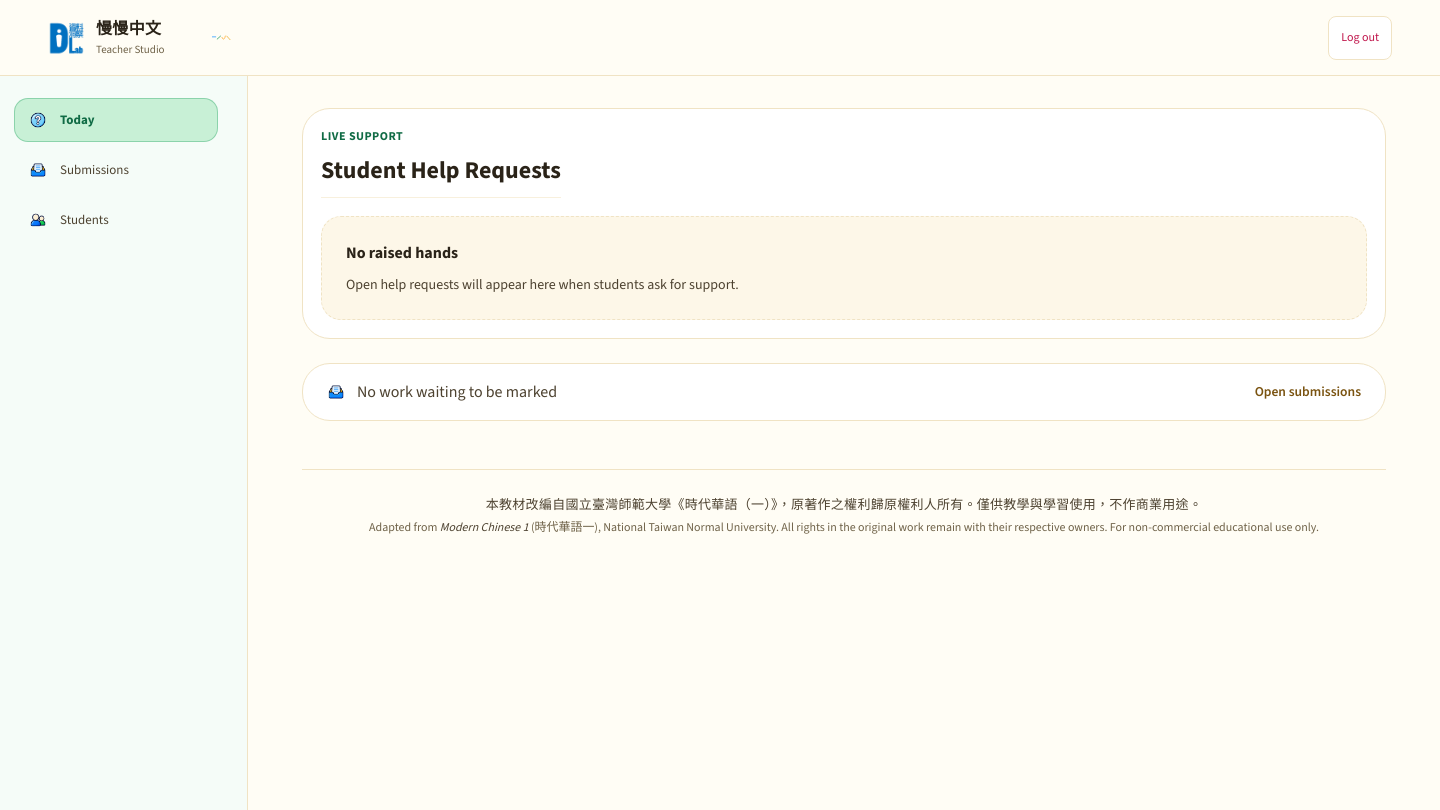
it: Recording trends on the Submissions view › shows an empty state when there are no recordings yet
Click the button "Submissions".
click(116, 170)  # box [14,148,218,192]
(page scrolled)
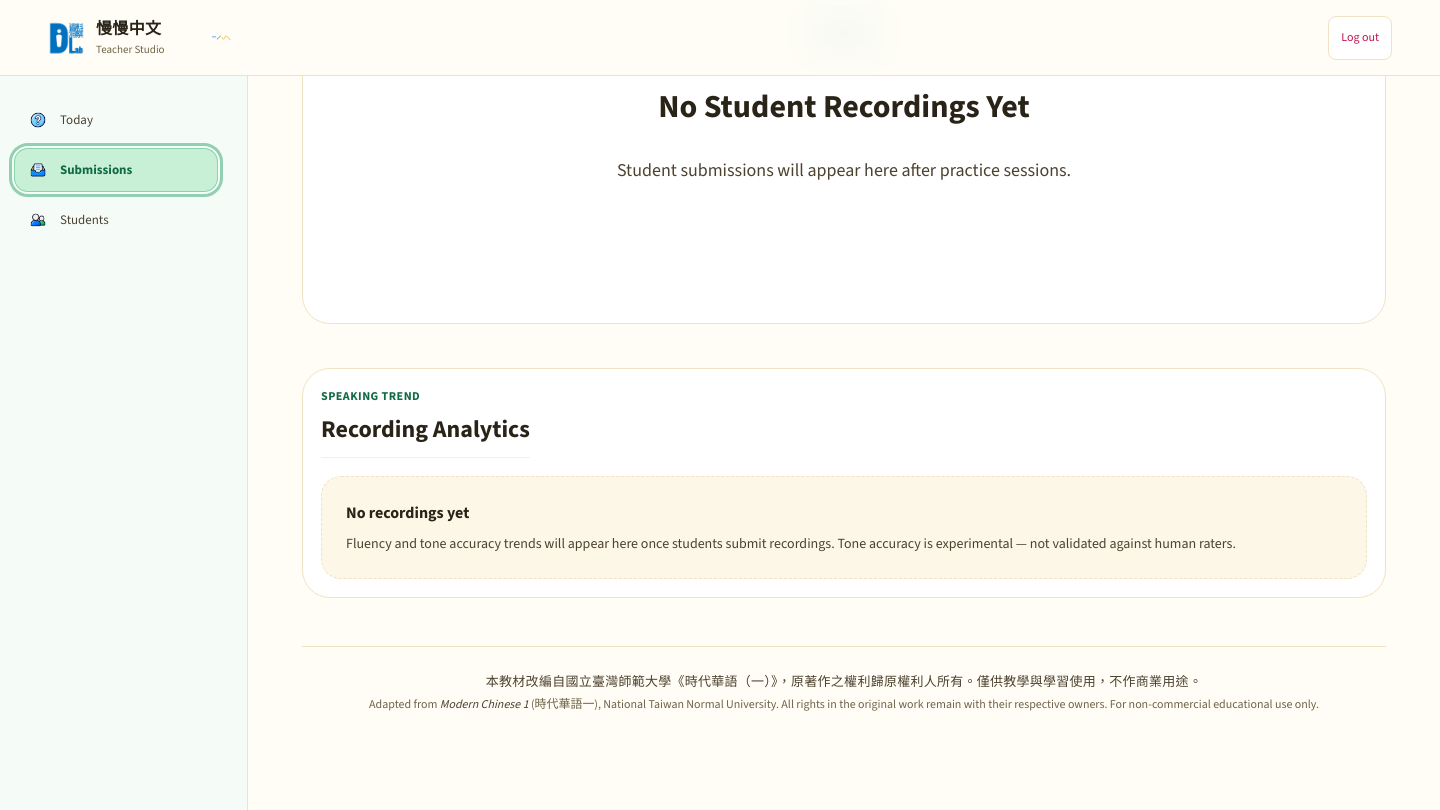
Check: the text "No recordings yet" is shown, box [346,502,469,522]
